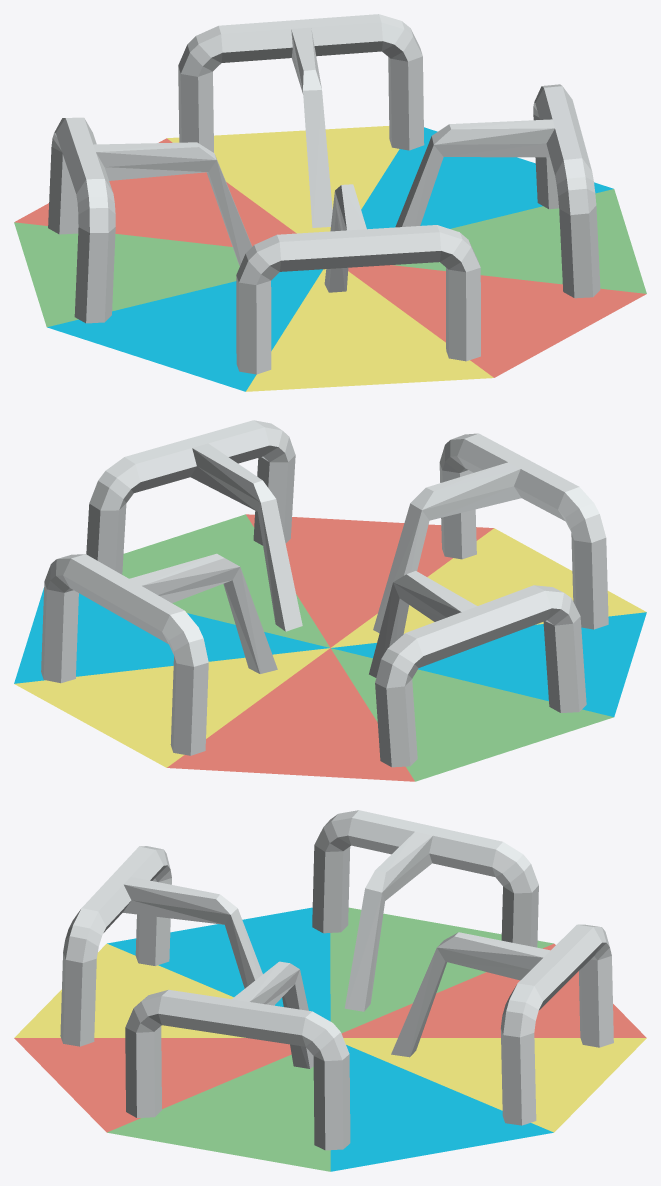
The model's file is Girella.fbx.
3 renders of one model, top to bottom at view 1: azimuth 30°, elevation 25°; view 2: azimuth 150°, elevation 25°; view 3: azimuth 270°, elevation 25°, orthographic. The views are drawn at different scales.
Visible parts, largest first — view 1: mesh1857094099, mesh1336431137, mesh1426769482, mesh1688855195, mesh666132522; view 2: mesh1857094099, mesh1336431137, mesh1688855195, mesh666132522, mesh1426769482; view 3: mesh1857094099, mesh1688855195, mesh666132522, mesh1336431137, mesh1426769482.
Part boxes in pixels (bbox=[...]): mesh1857094099: bbox=[14, 126, 646, 391]; mesh1336431137: bbox=[178, 14, 424, 227]; mesh1426769482: bbox=[236, 184, 480, 374]; mesh1688855195: bbox=[48, 117, 252, 323]; mesh666132522: bbox=[395, 84, 600, 298]; mesh1857094099: bbox=[14, 514, 646, 781]; mesh1336431137: bbox=[41, 553, 277, 755]; mesh1688855195: bbox=[369, 571, 586, 767]; mesh666132522: bbox=[86, 420, 302, 631]; mesh1426769482: bbox=[373, 433, 608, 633]; mesh1857094099: bbox=[14, 907, 646, 1171]; mesh1688855195: bbox=[312, 810, 538, 1011]; mesh666132522: bbox=[125, 961, 350, 1150]; mesh1336431137: bbox=[391, 924, 613, 1125]; mesh1426769482: bbox=[60, 846, 274, 1046].
Size of the model in its own units: 122 by 35.6 by 122.
